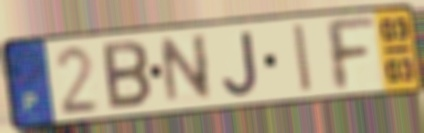2: (52, 43, 101, 118)
B: (100, 38, 154, 113)
F: (320, 15, 379, 94)
I: (289, 21, 316, 96)
J: (219, 28, 261, 99)
N: (158, 31, 214, 108)
